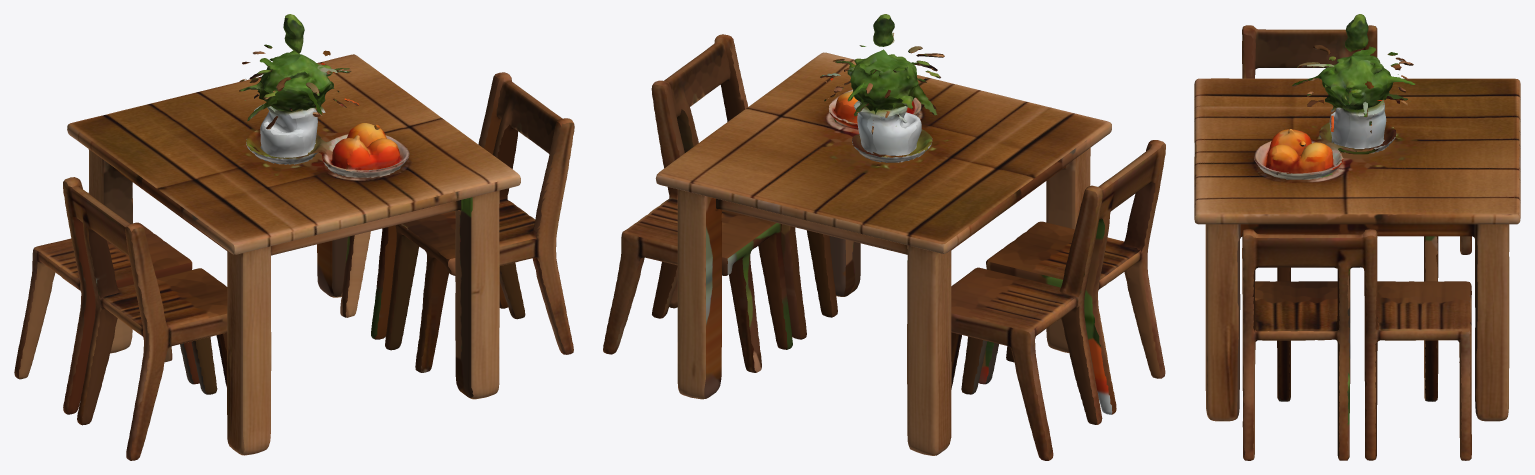
File: mesa_sillas.glb
3 renders of one model, left to right at view 1: azimuth 30°, elevation 25°; view 2: azimuth 150°, elevation 25°; view 3: azimuth 270°, elevation 25°, orthographic. The views are drawn at different scales.
Visible parts, largest first — view 1: tmpf9rc74ge.ply; view 2: tmpf9rc74ge.ply; view 3: tmpf9rc74ge.ply.
Boxes of the visible parts, box(x1,y1,x2,y2) form: tmpf9rc74ge.ply: box(14, 14, 574, 460); tmpf9rc74ge.ply: box(603, 14, 1165, 460); tmpf9rc74ge.ply: box(1194, 14, 1520, 460).
Bounding box in the file's own units: 0.9898 × 0.7562 × 0.6464.
1 material, 1 textured.
